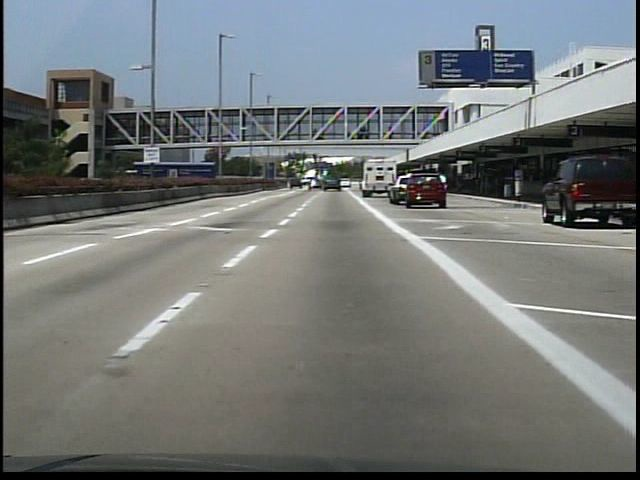person: (435, 174, 452, 208)
